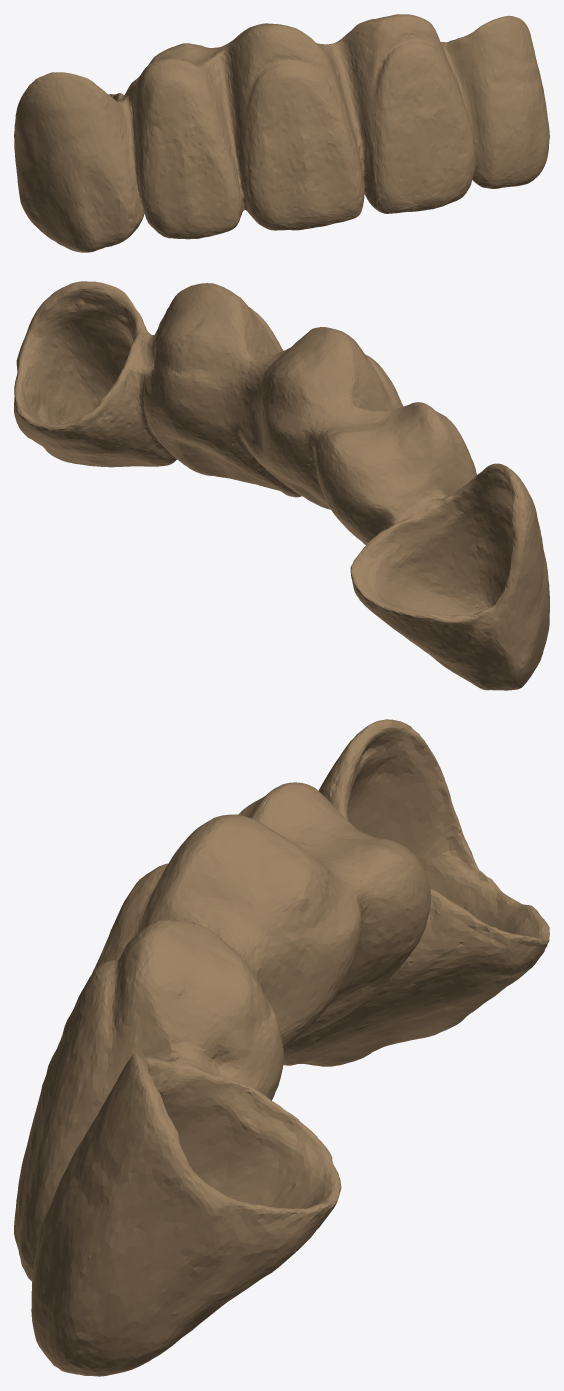
Rendered from pfm bridges LowerJawScan edited.glb.
3 views of the same model, one above another, from view 1: azimuth 30°, elevation 25°; view 2: azimuth 150°, elevation 25°; view 3: azimuth 270°, elevation 25° (orthographic). The views are drawn at different scales.
Bounding box in the file's own units: 0.0319 × 0.014 × 0.0171.
